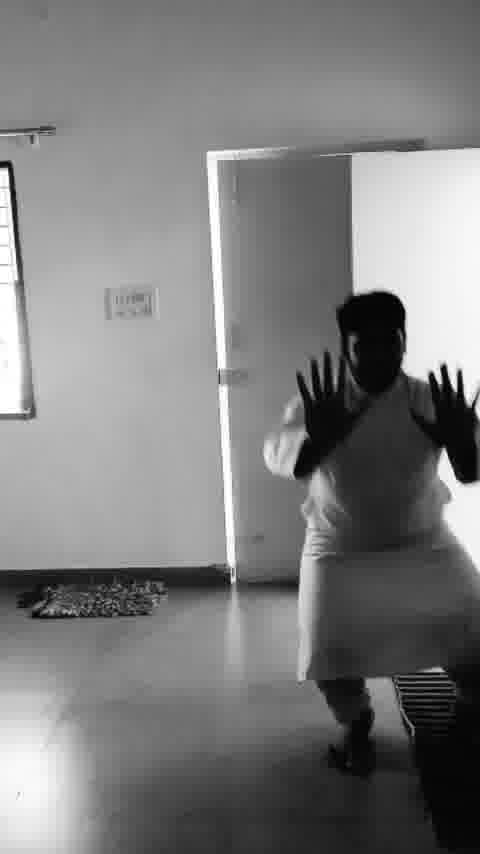duck: (215, 285, 480, 797)
